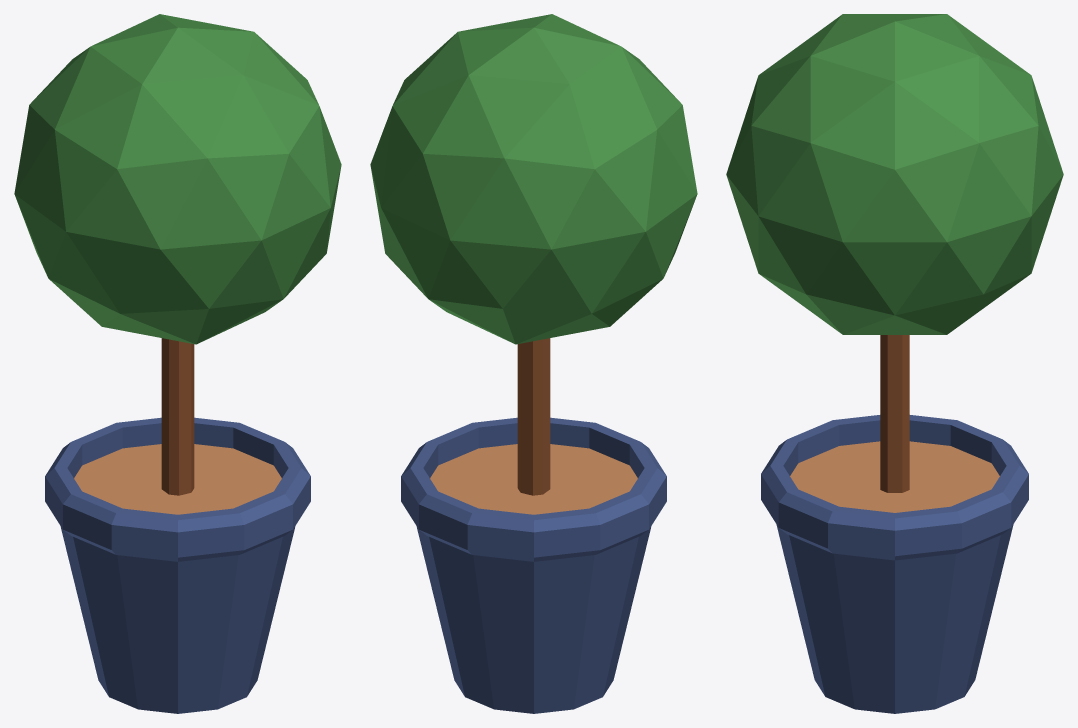
The model's file is Plant A.glb.
3 renders of one model, left to right at view 1: azimuth 30°, elevation 25°; view 2: azimuth 150°, elevation 25°; view 3: azimuth 270°, elevation 25°, orthographic.
Visible parts, largest first — view 1: Plant A; view 2: Plant A; view 3: Plant A.
Part boxes in pixels (x1,y1,x2,y2): Plant A: (14,14,341,713); Plant A: (370,14,697,713); Plant A: (726,14,1063,713).
Size of the model in its own units: 262 by 592 by 275.
